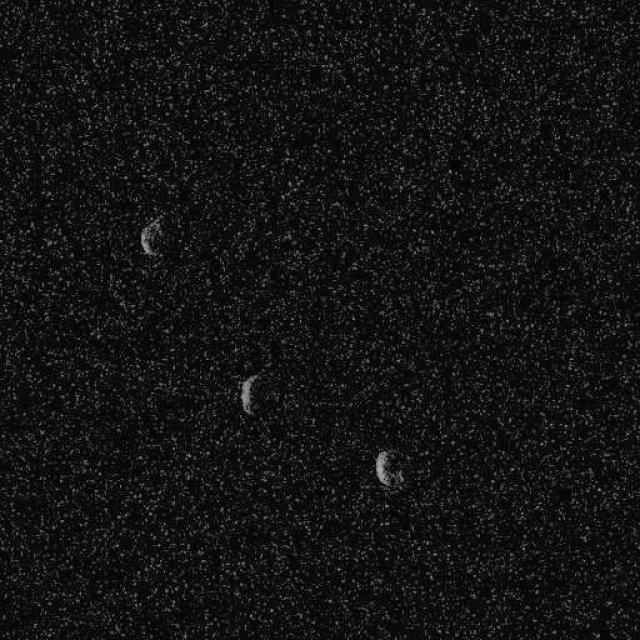D2: (374, 449, 405, 489), (138, 216, 164, 258), (239, 372, 260, 417)
